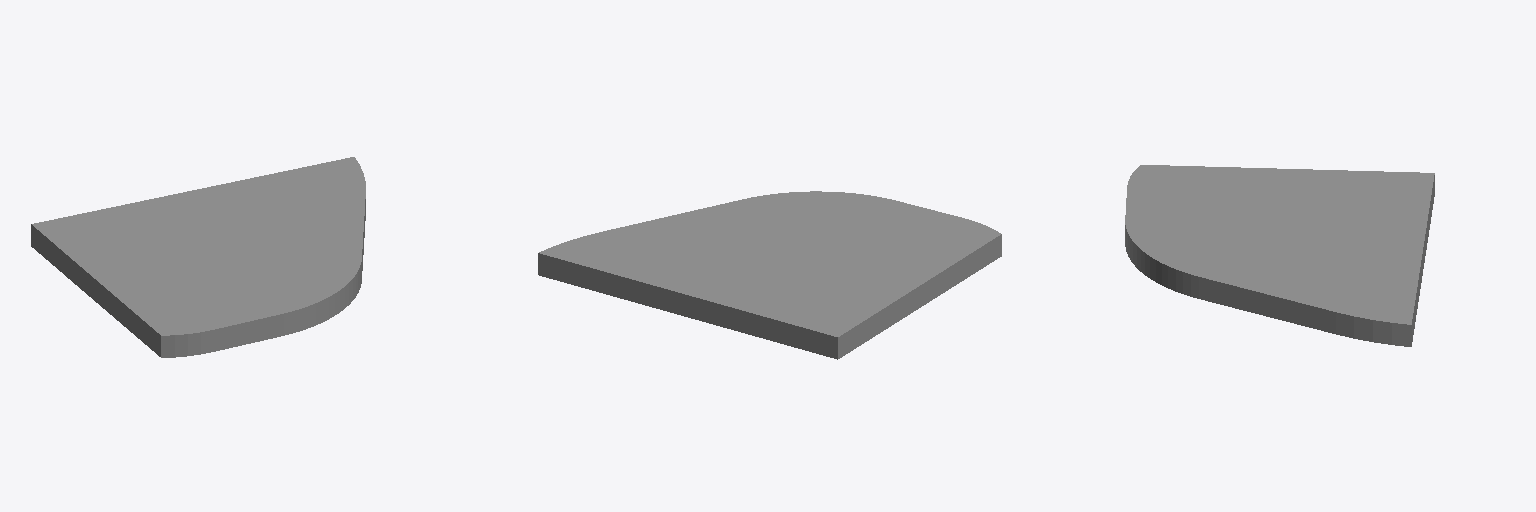
Rendered from Aust_2.obj.
The picture shows the model from 3 angles: view 1: azimuth 30°, elevation 25°; view 2: azimuth 150°, elevation 25°; view 3: azimuth 270°, elevation 25°; orthographic projection.
Parts seen in each view (by area): view 1: (Unsaved)_Body1_0; view 2: (Unsaved)_Body1_0; view 3: (Unsaved)_Body1_0.
Boxes of the visible parts, <box> form: (Unsaved)_Body1_0: <box>31,157,365,357</box>; (Unsaved)_Body1_0: <box>538,191,1001,359</box>; (Unsaved)_Body1_0: <box>1125,165,1434,346</box>.
Bounding box in the file's own units: 3.09 × 0.2 × 2.52.